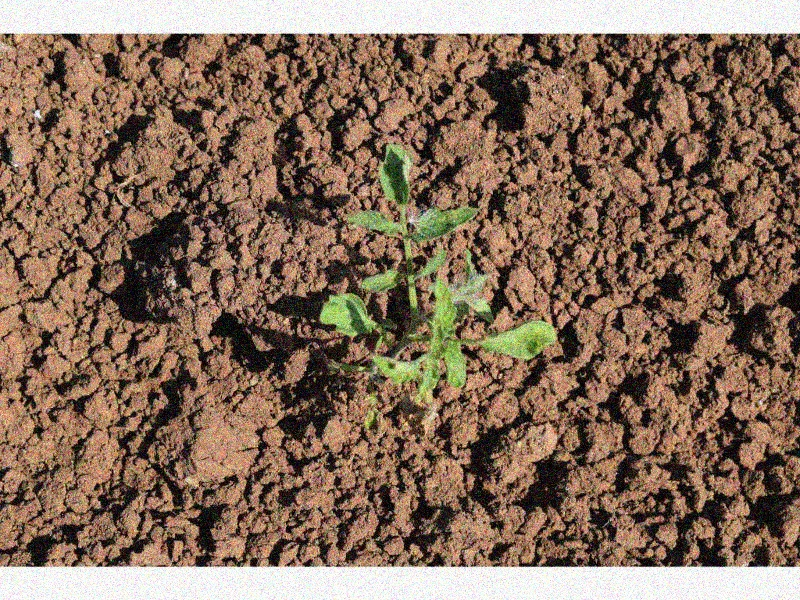tomato: (320, 143, 560, 401)
